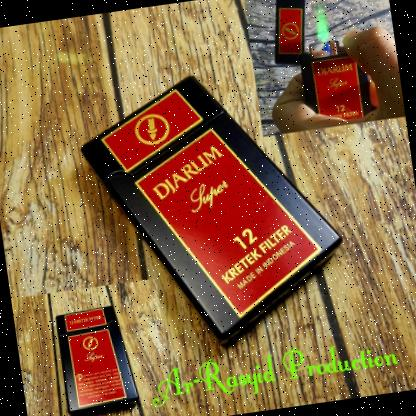bungkus rokok: (64, 39, 356, 378), (259, 0, 380, 141), (46, 292, 142, 416)
